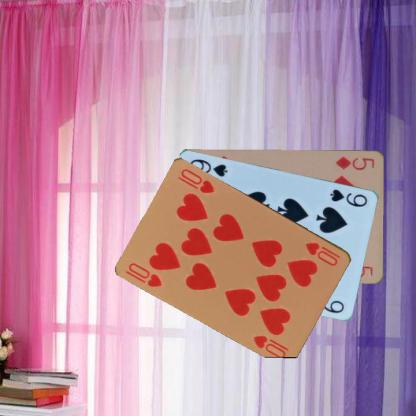10h: (303, 238, 342, 268), (126, 260, 164, 288)
5d: (334, 153, 376, 172)
9s: (328, 186, 368, 208)
